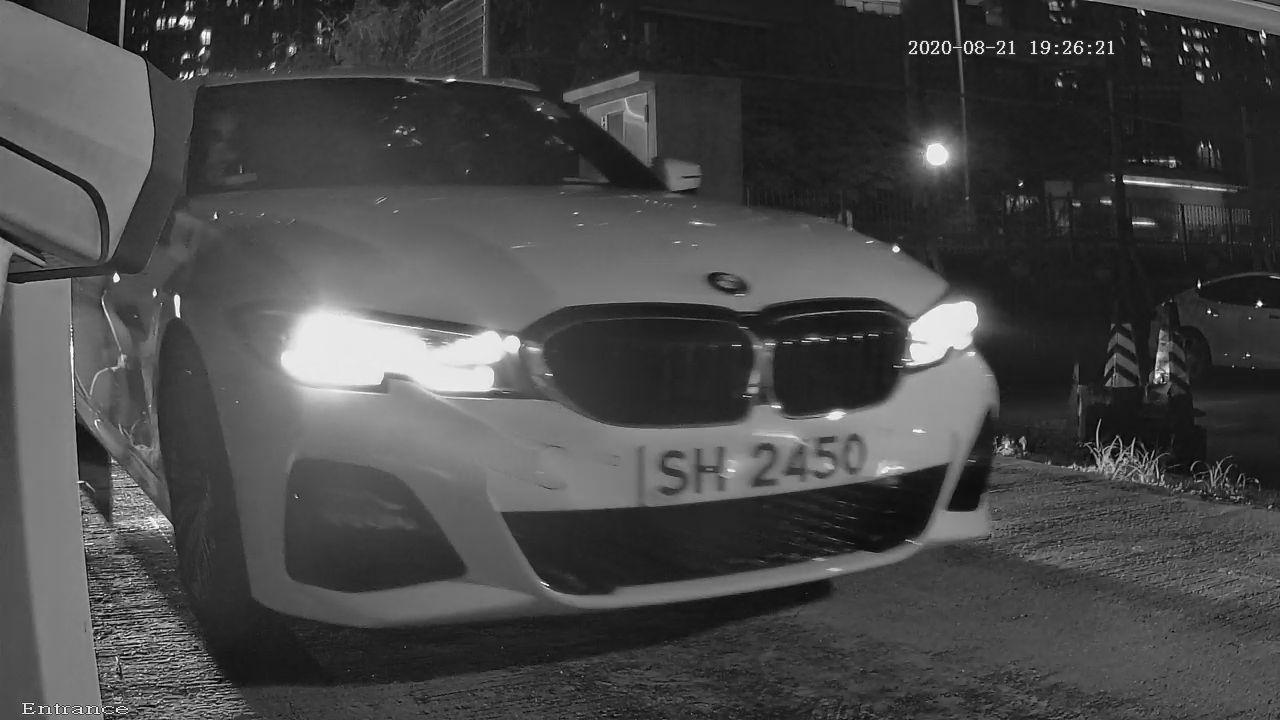Car: (18, 26, 1121, 672)
License Plate: (619, 409, 902, 539)
